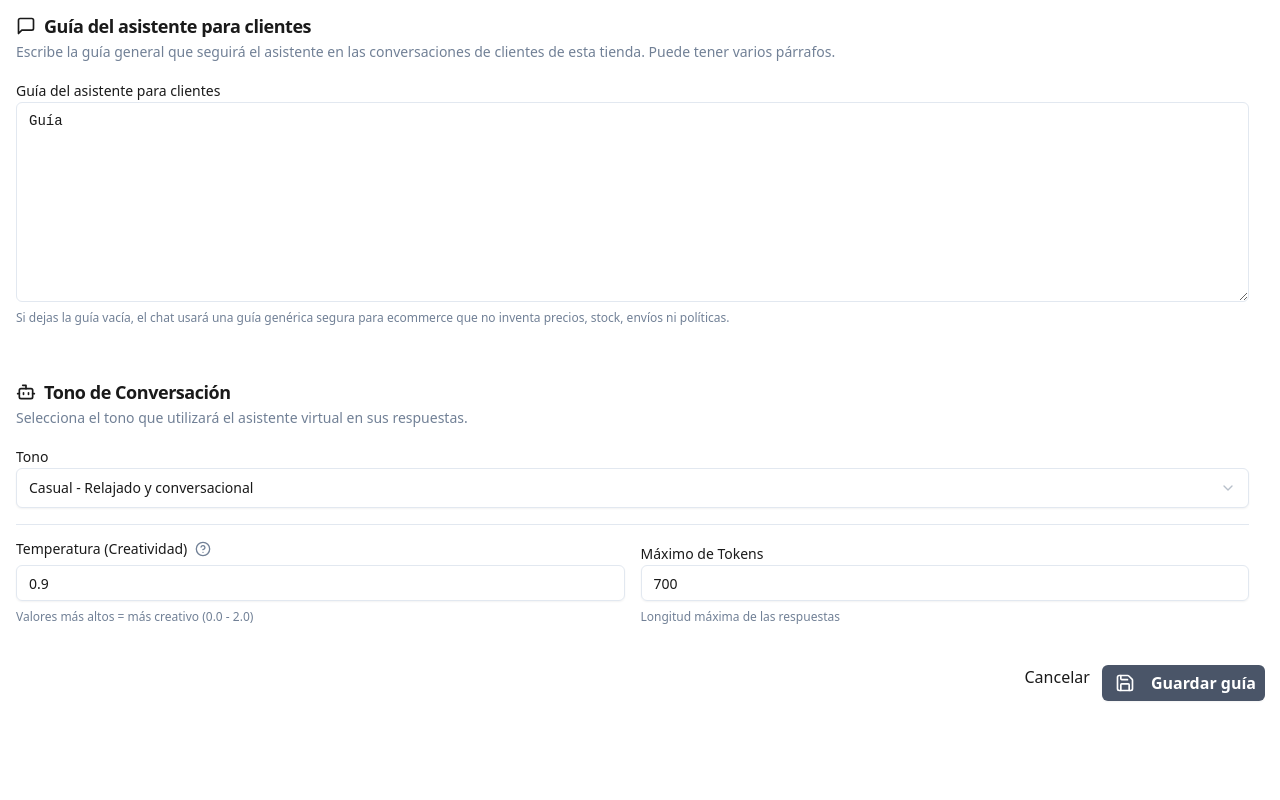
chatbot config form field wiring › marks an out-of-range temperature invalid and describes it with the error
Replace the text in the number field labelled "Temperatura (Creatividad)" with "9". click: (320, 583)
box: [16,565,624,601]
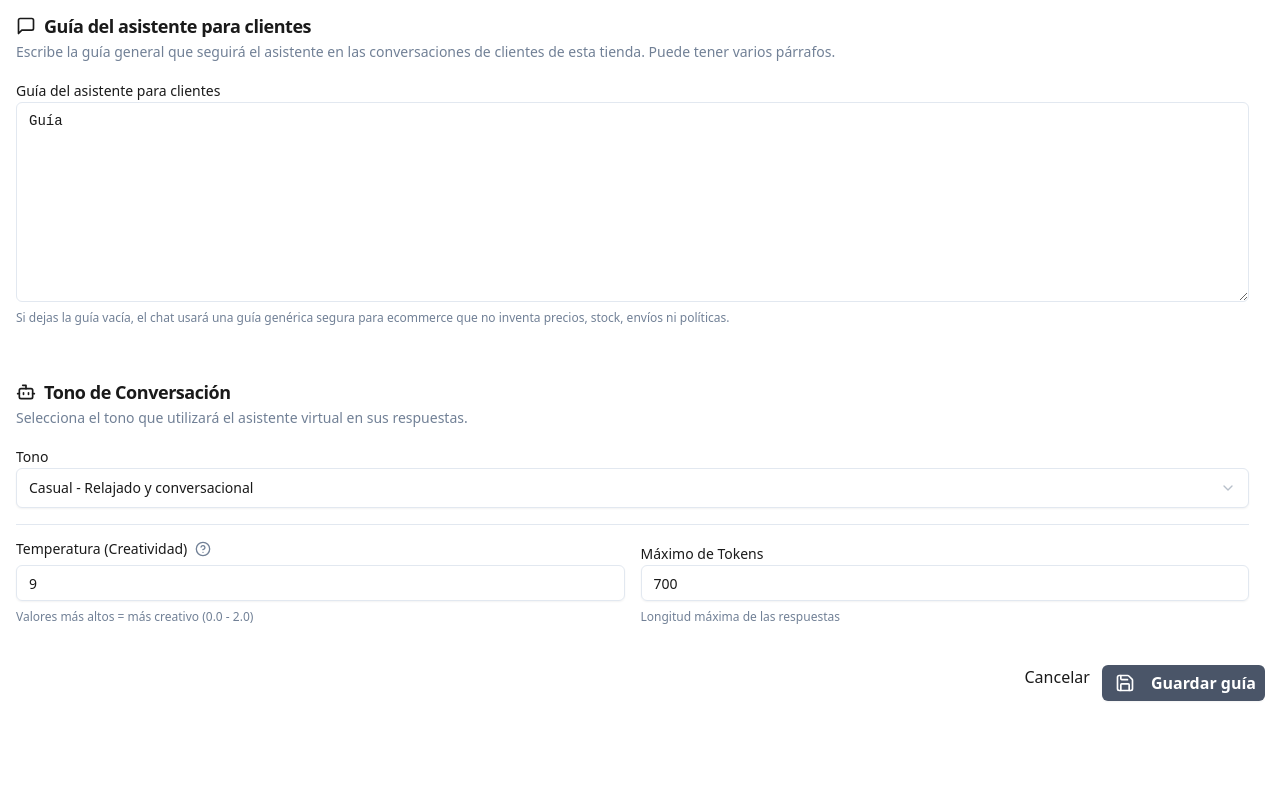
Submit the form
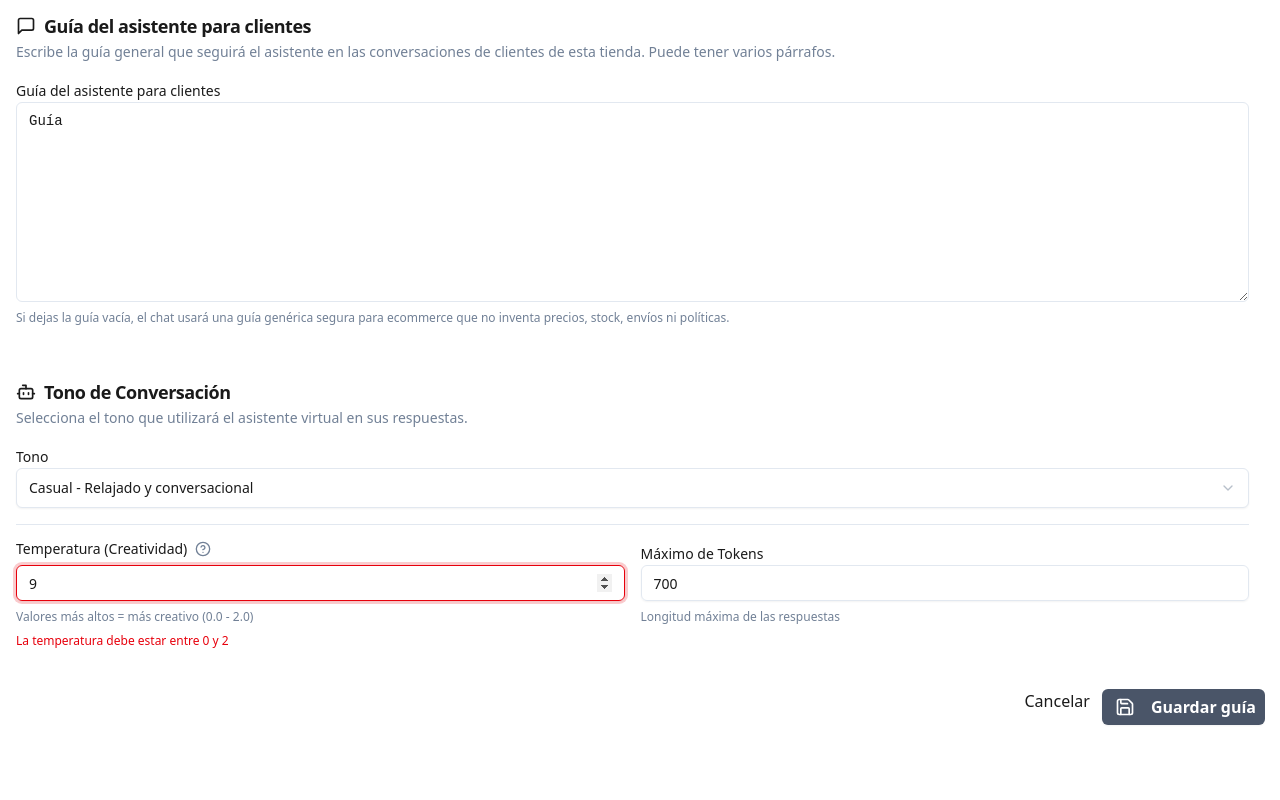
expect the number field labelled "Temperatura (Creatividad)" is marked as invalid: met, box [16,565,624,601]
